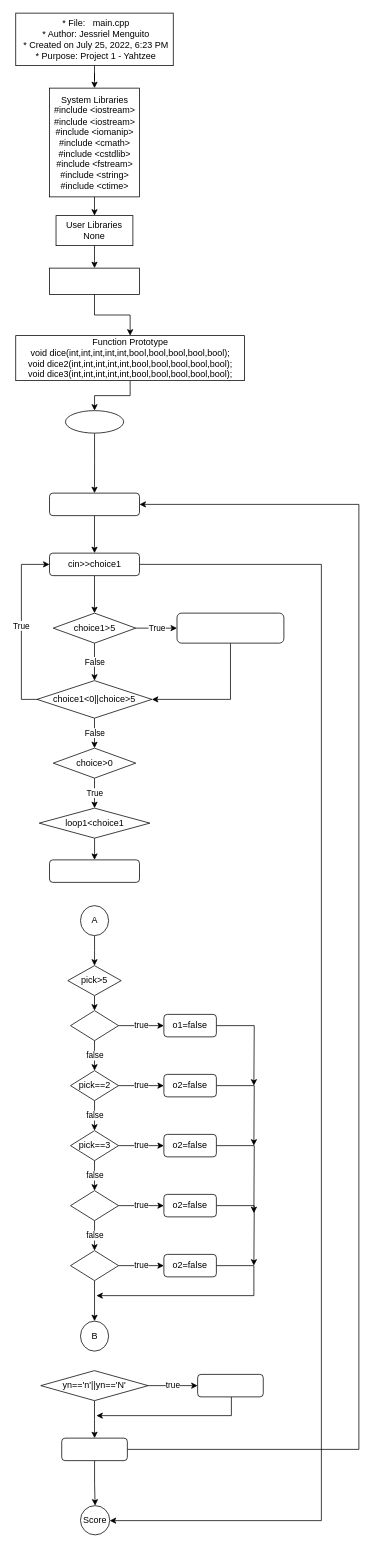
Some shapes in this 378 by 1548 pixel diagram are drawn without their labels. Each missing label, with the box of its shape:
cin>>pick: (49, 859, 140, 882)
count2++: (61, 1437, 127, 1461)
count2<round: (49, 492, 140, 516)
count2=round: (197, 1374, 263, 1397)
cout<<Please choose a number between 0 and 5: (176, 612, 284, 643)
Global Constants None: (49, 267, 140, 294)
Main: (65, 410, 124, 433)
pick==1: (70, 1010, 119, 1041)
pick==4: (70, 1190, 119, 1221)
pick==5: (70, 1250, 119, 1281)
